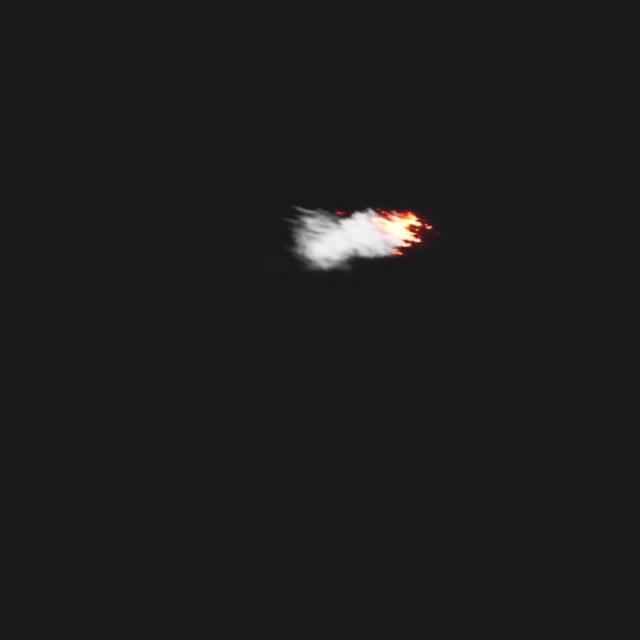fire: (363, 203, 429, 254)
smoke: (282, 190, 410, 288)
